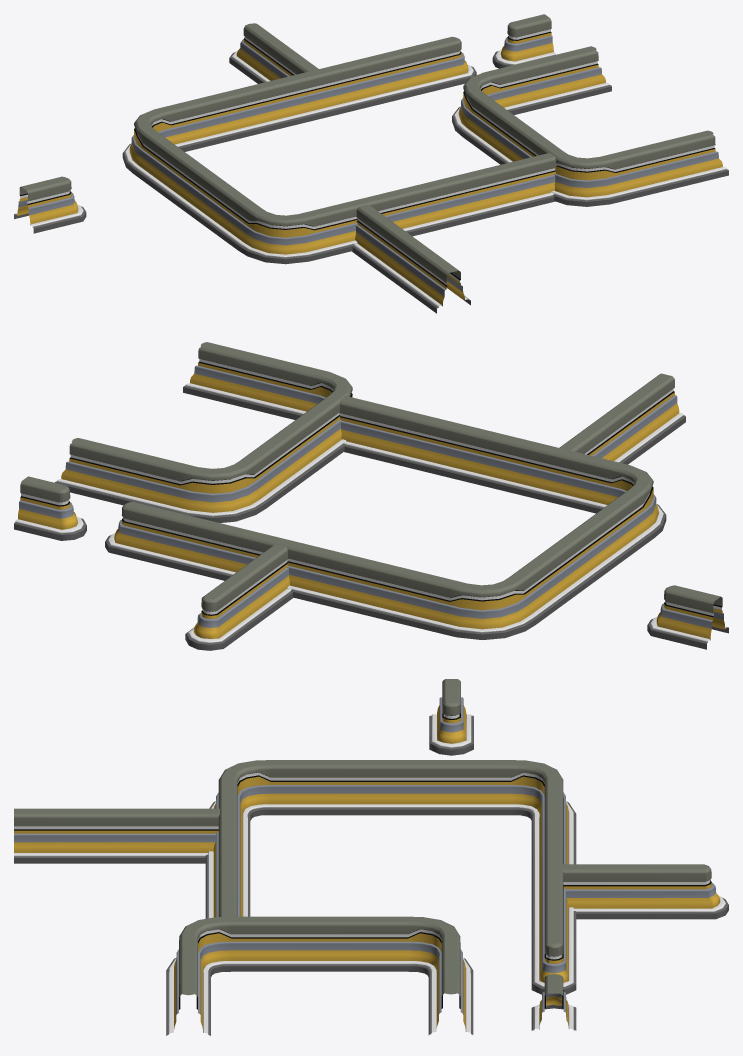
File: Small walls.fbx
The picture shows the model from 3 angles, top to bottom: view 1: azimuth 30°, elevation 25°; view 2: azimuth 150°, elevation 25°; view 3: azimuth 270°, elevation 25°; orthographic projection. The views are drawn at different scales.
Parts seen in each view (by area): view 1: Small_wall_L46, Small_wall_L76, Small_wall_L47, Small_wall_L49, Small_wall_L78, Small_wall_L77; view 2: Small_wall_L46, Small_wall_L76, Small_wall_L49, Small_wall_L47, Small_wall_L78, Small_wall_L77; view 3: Small_wall_L46, Small_wall_L76, Small_wall_L47, Small_wall_L49, Small_wall_L78, Small_wall_L77.
Part boxes in pixels (left/top/right/bottom): Small_wall_L46: left=122, top=36, right=556, bottom=264; Small_wall_L76: left=452, top=46, right=728, bottom=206; Small_wall_L47: left=352, top=204, right=470, bottom=313; Small_wall_L49: left=229, top=23, right=318, bottom=83; Small_wall_L78: left=14, top=176, right=86, bottom=233; Small_wall_L77: left=492, top=14, right=555, bottom=68; Small_wall_L46: left=105, top=396, right=666, bottom=639; Small_wall_L76: left=55, top=342, right=352, bottom=522; Small_wall_L49: left=185, top=544, right=293, bottom=650; Small_wall_L47: left=559, top=373, right=685, bottom=464; Small_wall_L78: left=647, top=585, right=728, bottom=649; Small_wall_L77: left=14, top=476, right=86, bottom=540; Small_wall_L46: left=205, top=760, right=576, bottom=994; Small_wall_L76: left=166, top=916, right=473, bottom=1035; Small_wall_L47: left=14, top=808, right=219, bottom=863; Small_wall_L49: left=561, top=864, right=728, bottom=919; Small_wall_L78: left=429, top=679, right=473, bottom=755; Small_wall_L77: left=531, top=974, right=576, bottom=1030.
Bounding box in the file's own units: 587 × 38.52 × 551.
